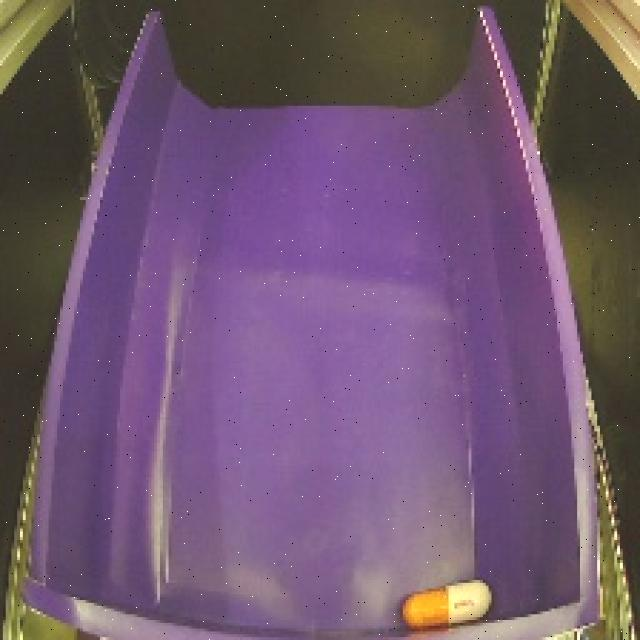small: (391, 570, 496, 632)
